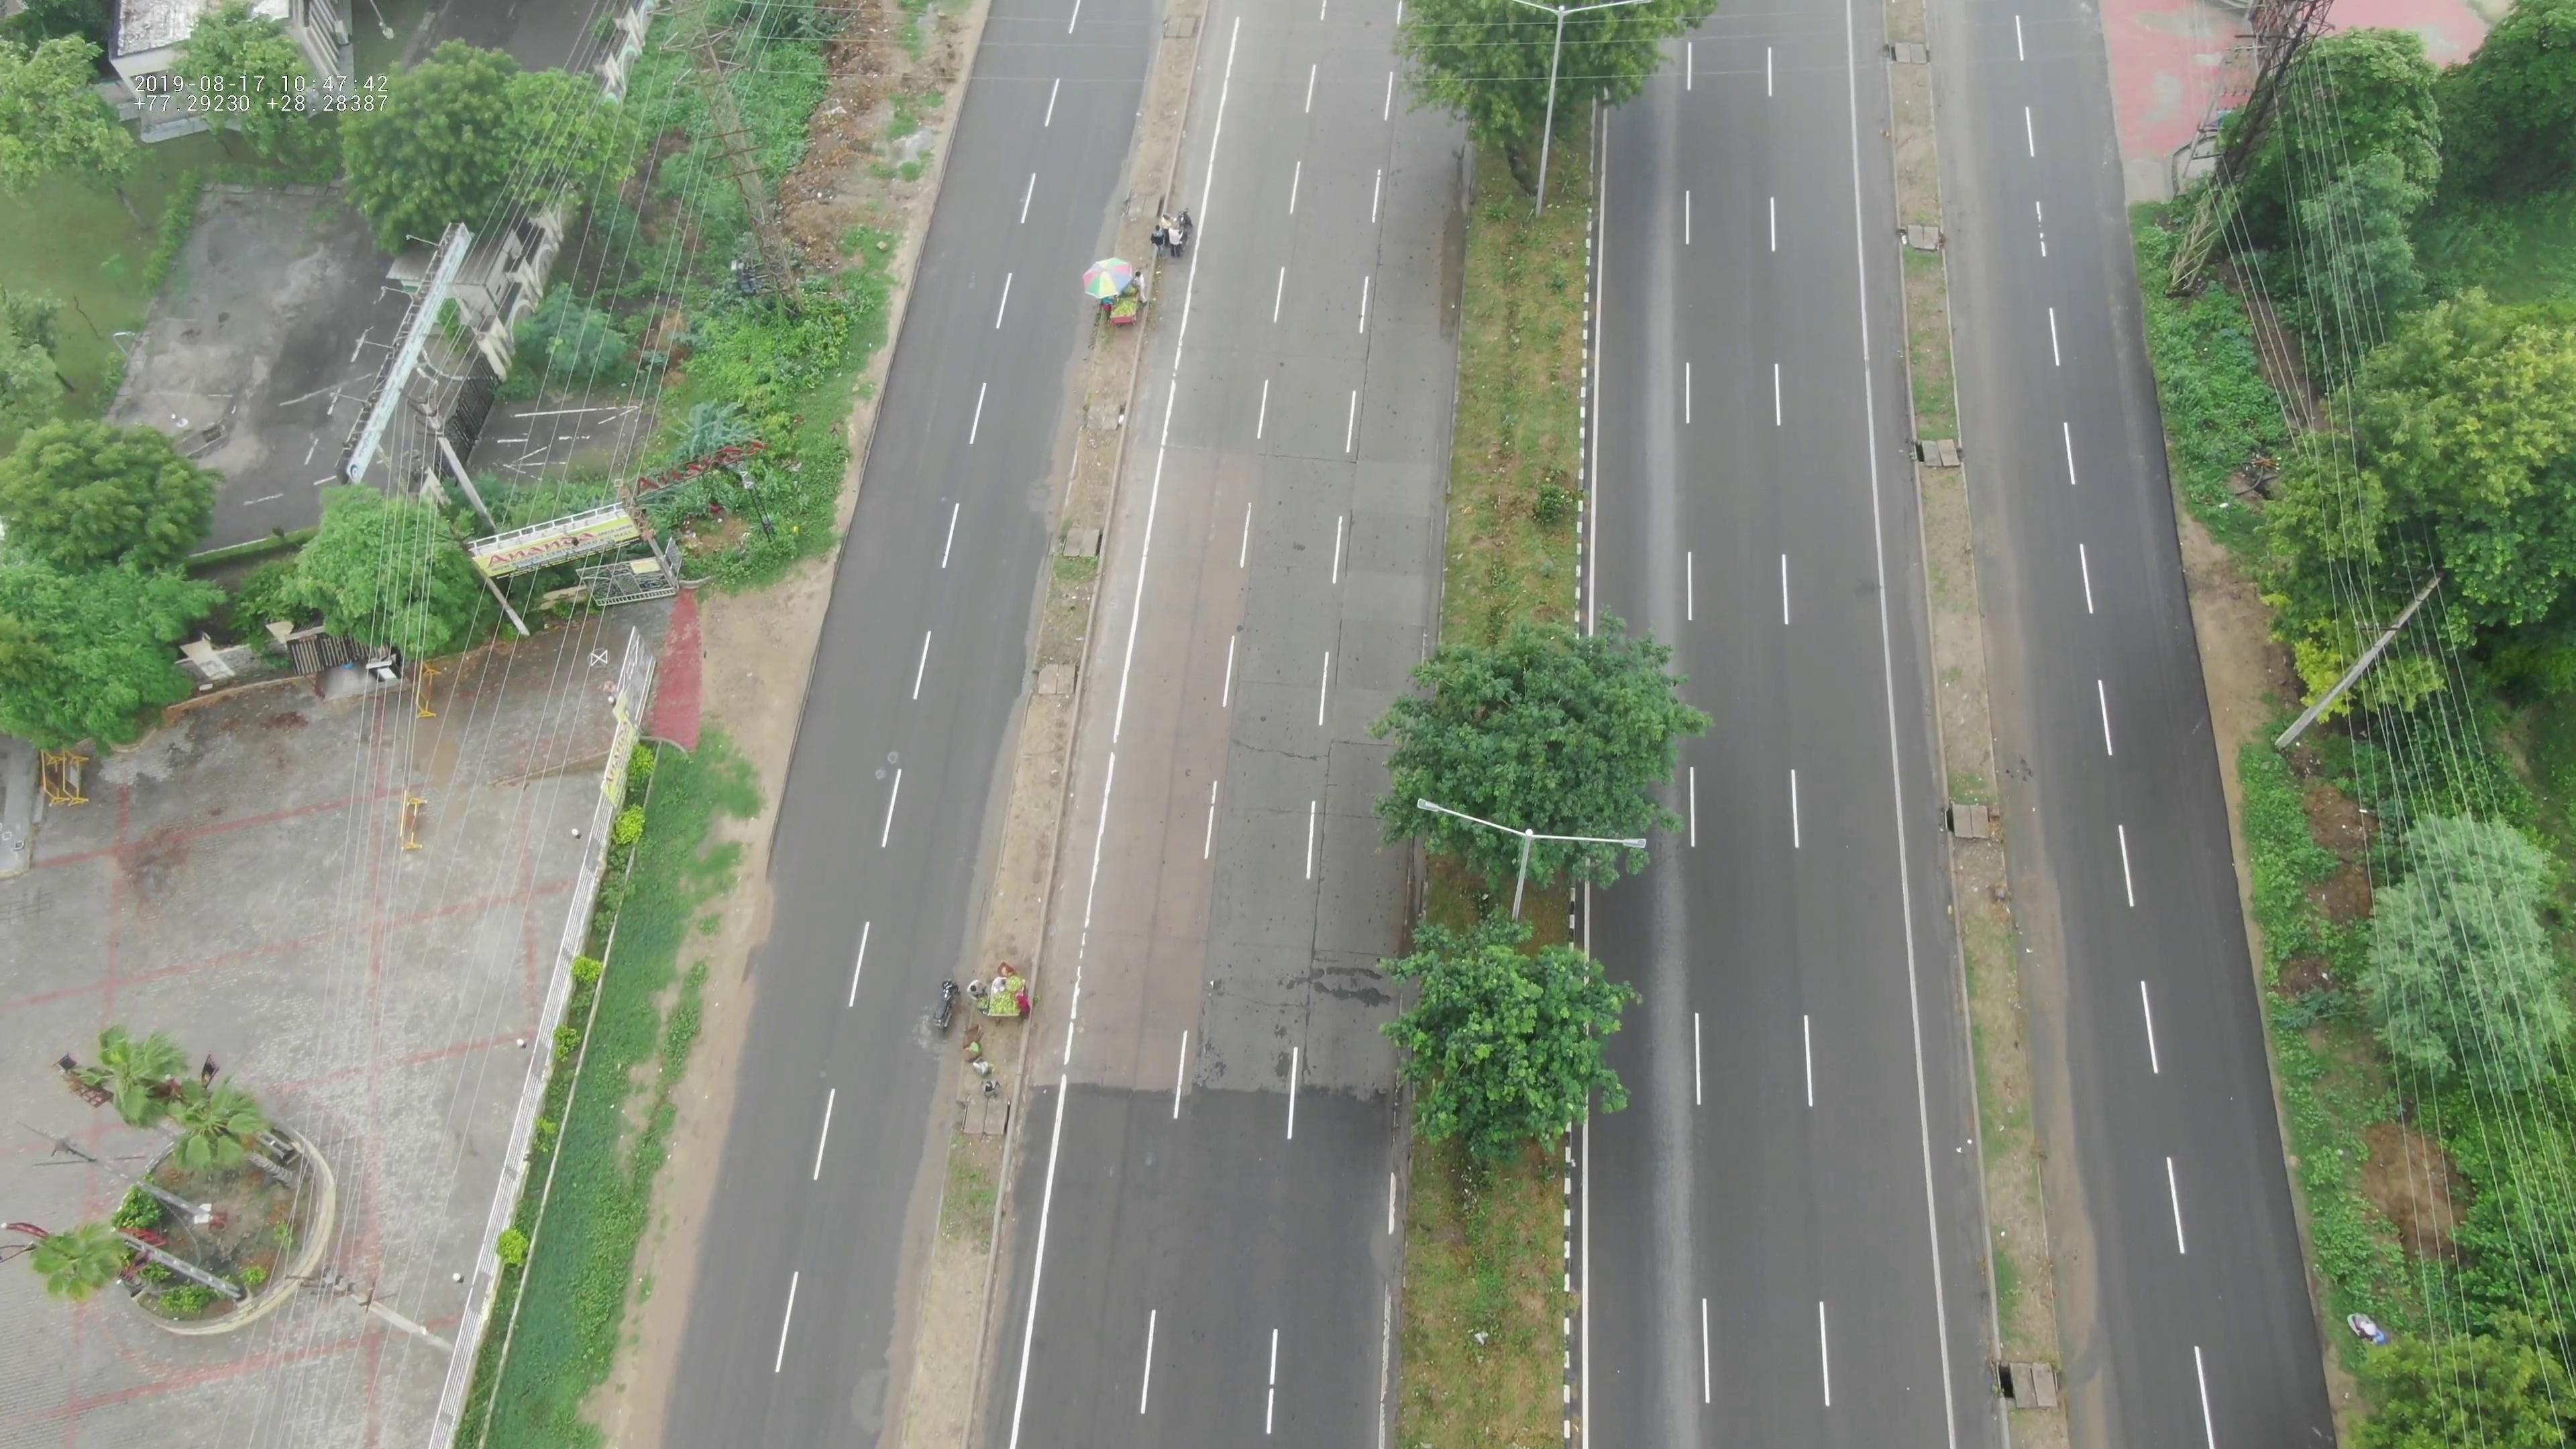Hair_cracks: (1215, 718, 1417, 771)
